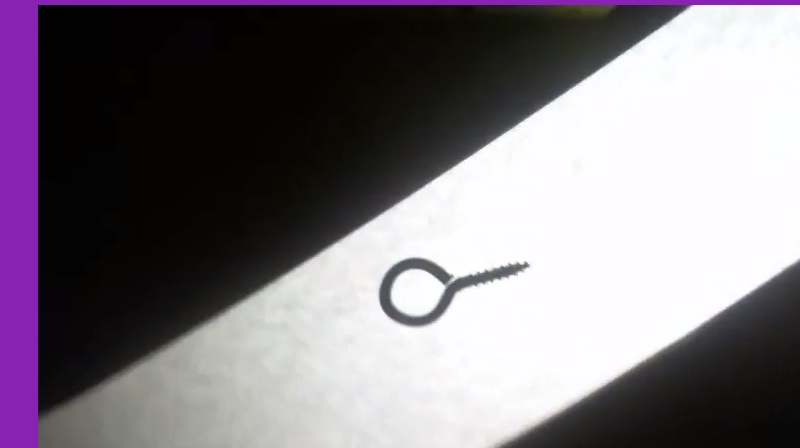O001: (375, 252, 533, 328)
